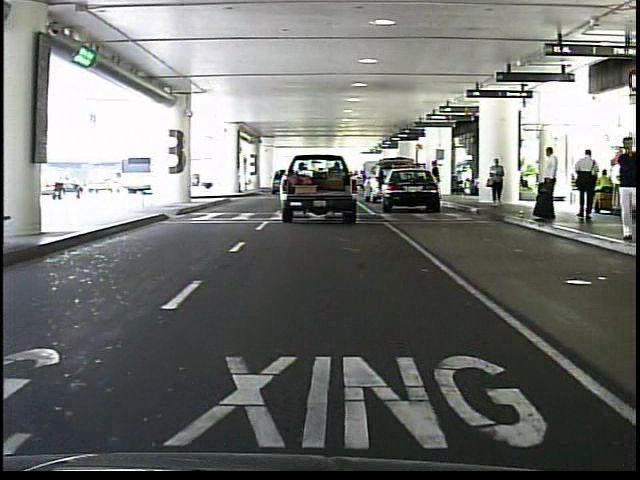person: (607, 137, 640, 250), (571, 145, 602, 224), (534, 143, 563, 225), (486, 154, 510, 211), (431, 158, 444, 202)
